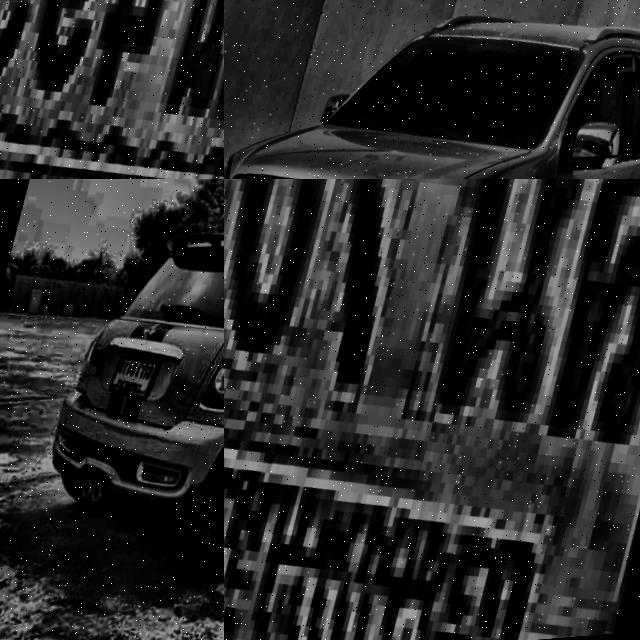license-plate: (224, 179, 640, 640), (0, 0, 224, 179), (110, 353, 166, 404)
